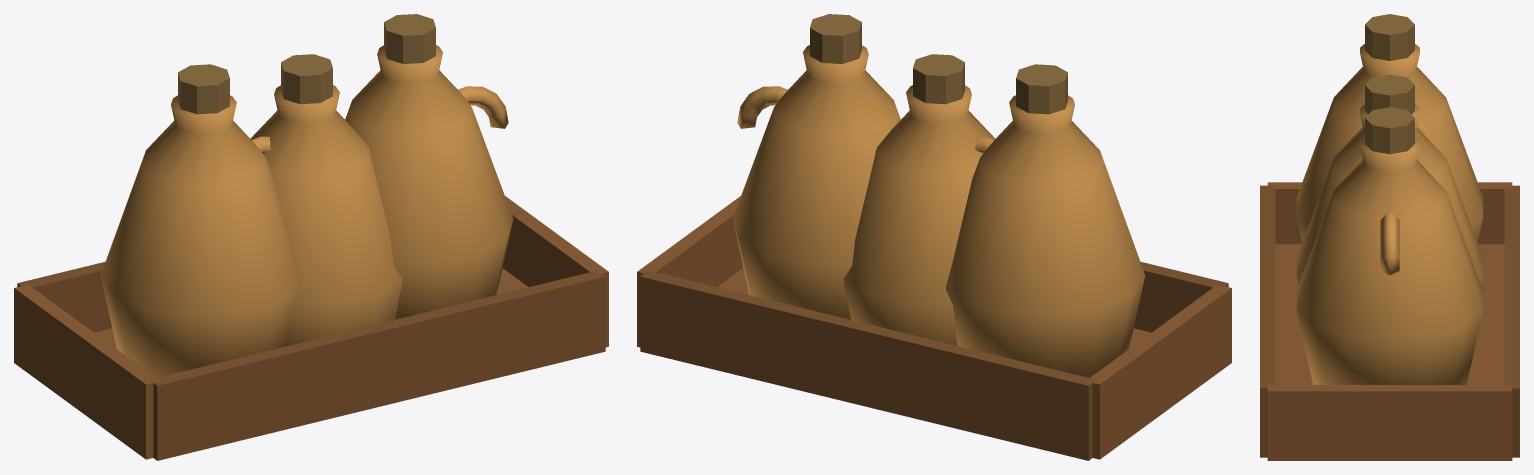
The model's file is Alc_Mead.fbx.
3 renders of one model, left to right at view 1: azimuth 30°, elevation 25°; view 2: azimuth 150°, elevation 25°; view 3: azimuth 270°, elevation 25°, orthographic. The views are drawn at different scales.
Parts seen in each view (by area): view 1: Alc_Mead__Stack, Alc_Mead; view 2: Alc_Mead__Stack, Alc_Mead; view 3: Alc_Mead__Stack, Alc_Mead.
Part boxes in pixels (<box>): Alc_Mead__Stack: <box>14,14,608,460</box>; Alc_Mead: <box>250,54,402,345</box>; Alc_Mead__Stack: <box>637,14,1231,460</box>; Alc_Mead: <box>843,54,995,345</box>; Alc_Mead__Stack: <box>1260,14,1519,460</box>; Alc_Mead: <box>1296,74,1483,285</box>.
Size of the model in its own units: 0.258 by 0.163 by 0.1355.
